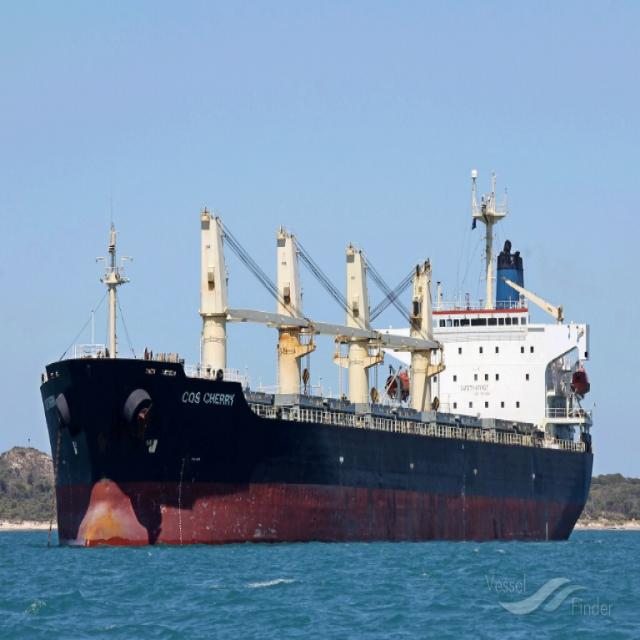OCR: (180, 383, 238, 414)
